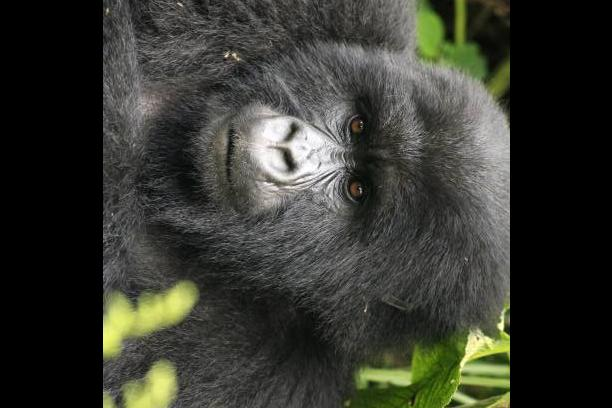goriile_montagne: (103, 0, 508, 408)
